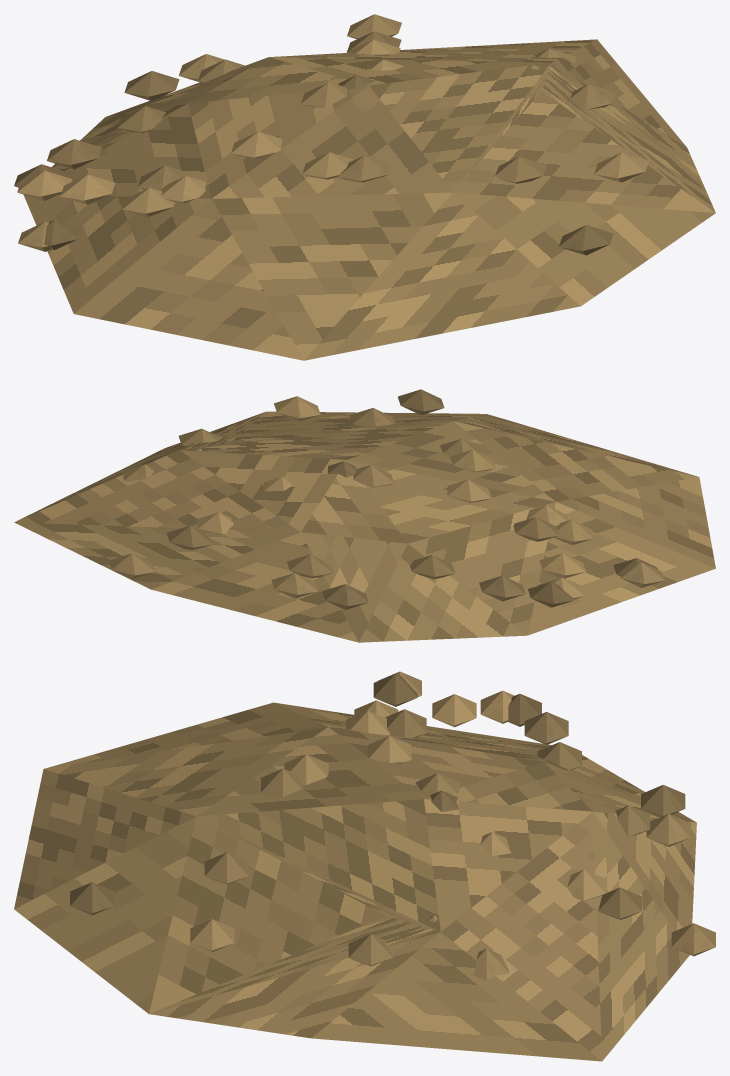
Rendered from dry_lentils.glb.
The picture shows the model from 3 angles, top to bottom: view 1: azimuth 30°, elevation 25°; view 2: azimuth 150°, elevation 25°; view 3: azimuth 270°, elevation 25°; orthographic projection. The views are drawn at different scales.
Visible parts, largest first — view 1: block_loose dry ingredients, block_loose grain 10, block_loose grain 2, block_loose grain 23, block_loose grain 5, block_loose grain 27, block_loose grain 24, block_loose grain 15, block_loose grain 7, block_loose grain 4, block_loose grain 1, block_loose grain 17 (+9 smaller); view 2: block_loose dry ingredients, block_loose grain 22, block_loose grain 23, block_loose grain 27, block_loose grain 2, block_loose grain 11, block_loose grain 5, block_loose grain 10, block_loose grain 25, block_loose grain 16, block_loose grain 26, block_loose grain 18 (+11 smaller); view 3: block_loose dry ingredients, block_loose grain 2, block_loose grain 11, block_loose grain 10, block_loose grain 23, block_loose grain 5, block_loose grain 27, block_loose grain 15, block_loose grain 22, block_loose grain 16, block_loose grain 6, block_loose grain 3 (+12 smaller).
Part boxes in pixels (x1,y1,x2,y2): block_loose dry ingredients: (23, 39, 715, 360); block_loose grain 10: (60, 174, 115, 204); block_loose grain 2: (559, 225, 613, 255); block_loose grain 23: (47, 139, 101, 169); block_loose grain 5: (594, 152, 648, 182); block_loose grain 27: (124, 71, 179, 100); block_loose grain 24: (17, 170, 72, 200); block_loose grain 15: (495, 156, 546, 183); block_loose grain 7: (122, 187, 174, 216); block_loose grain 4: (231, 131, 282, 158); block_loose grain 1: (337, 155, 390, 182); block_loose grain 17: (302, 152, 354, 179); block_loose dry ingredients: (14, 411, 715, 642); block_loose grain 22: (271, 573, 318, 598); block_loose grain 23: (479, 575, 525, 601); block_loose grain 27: (322, 584, 368, 609); block_loose grain 2: (398, 389, 444, 414); block_loose grain 11: (109, 553, 155, 579); block_loose grain 5: (274, 396, 320, 421); block_loose grain 10: (539, 553, 585, 578); block_loose grain 25: (513, 517, 559, 541); block_loose grain 16: (166, 526, 213, 549); block_loose grain 26: (410, 555, 455, 579); block_loose grain 18: (528, 582, 574, 607); block_loose dry ingredients: (14, 702, 696, 1061); block_loose grain 2: (70, 882, 114, 915); block_loose grain 11: (671, 923, 715, 956); block_loose grain 10: (432, 694, 476, 727); block_loose grain 23: (524, 712, 568, 744); block_loose grain 5: (190, 919, 234, 951); block_loose grain 27: (641, 785, 685, 816); block_loose grain 15: (204, 852, 248, 884); block_loose grain 22: (646, 813, 690, 846); block_loose grain 16: (598, 887, 642, 919); block_loose grain 6: (348, 934, 392, 966); block_loose grain 3: (373, 673, 417, 706).
Size of the model in its own units: 0.0831 by 0.0114 by 0.0687.
Materials: 1 (1 with a texture image).
